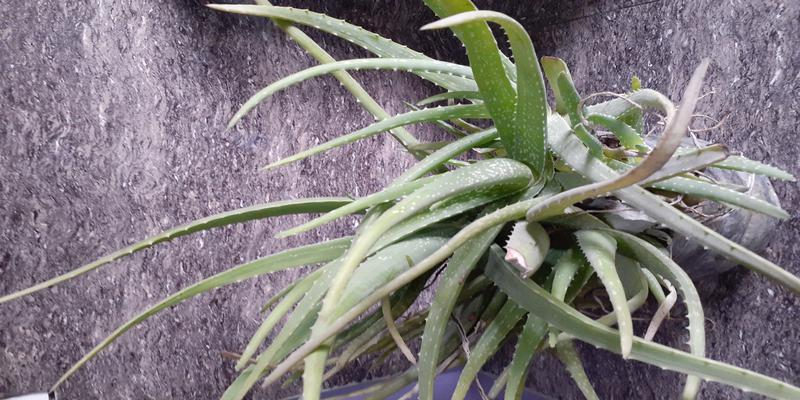Aloevera: (227, 52, 683, 363)
